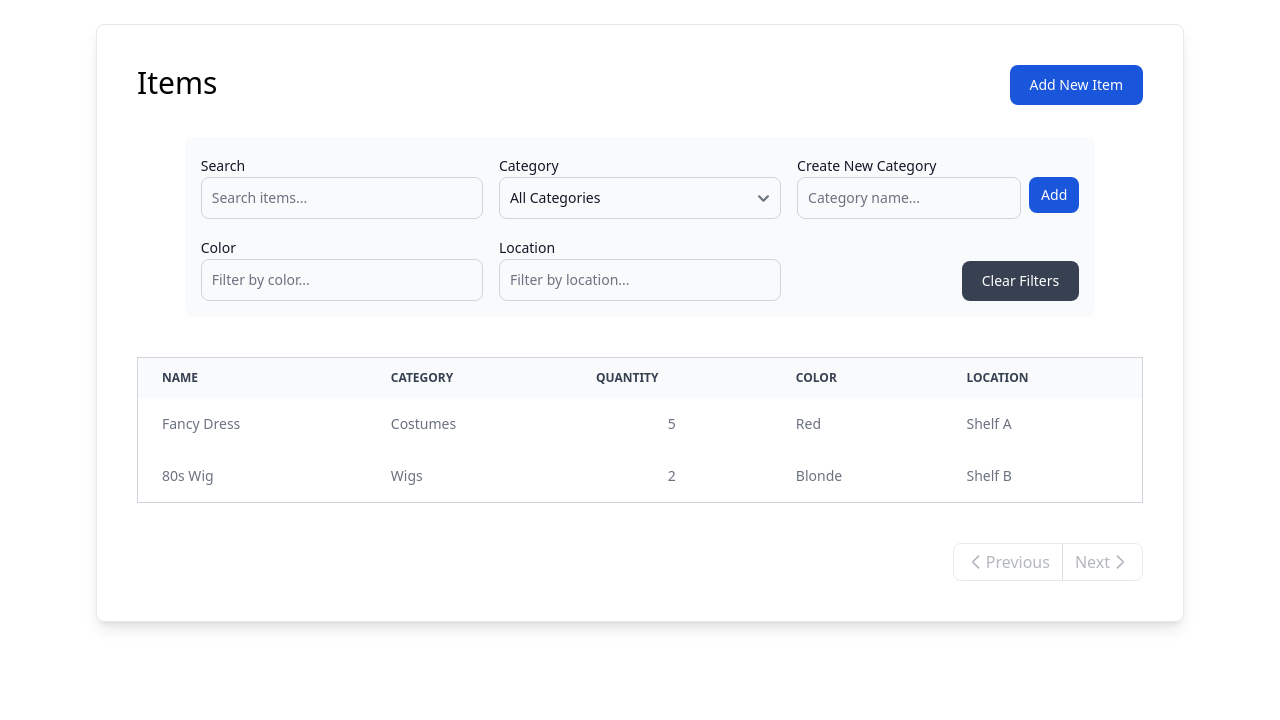
Items Page › displays error message when category creation fails with backend validation error
Expected: the text "Fancy Dress" is shown, [138,398,367,450]
Type "Valid Name" into the field with placeholder "Category name...". click: (909, 198)
box: [797,177,1021,219]
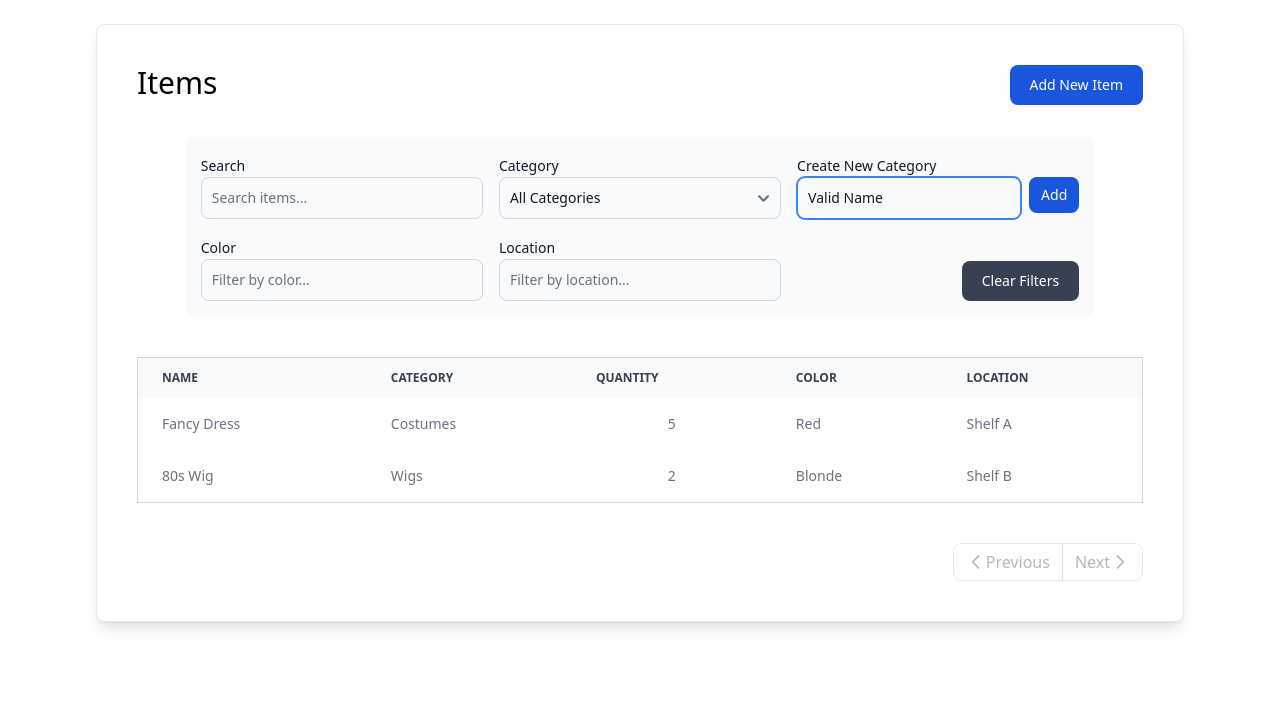
Click the button "Add". click: click(1054, 195)
box: [1029,177,1079,213]
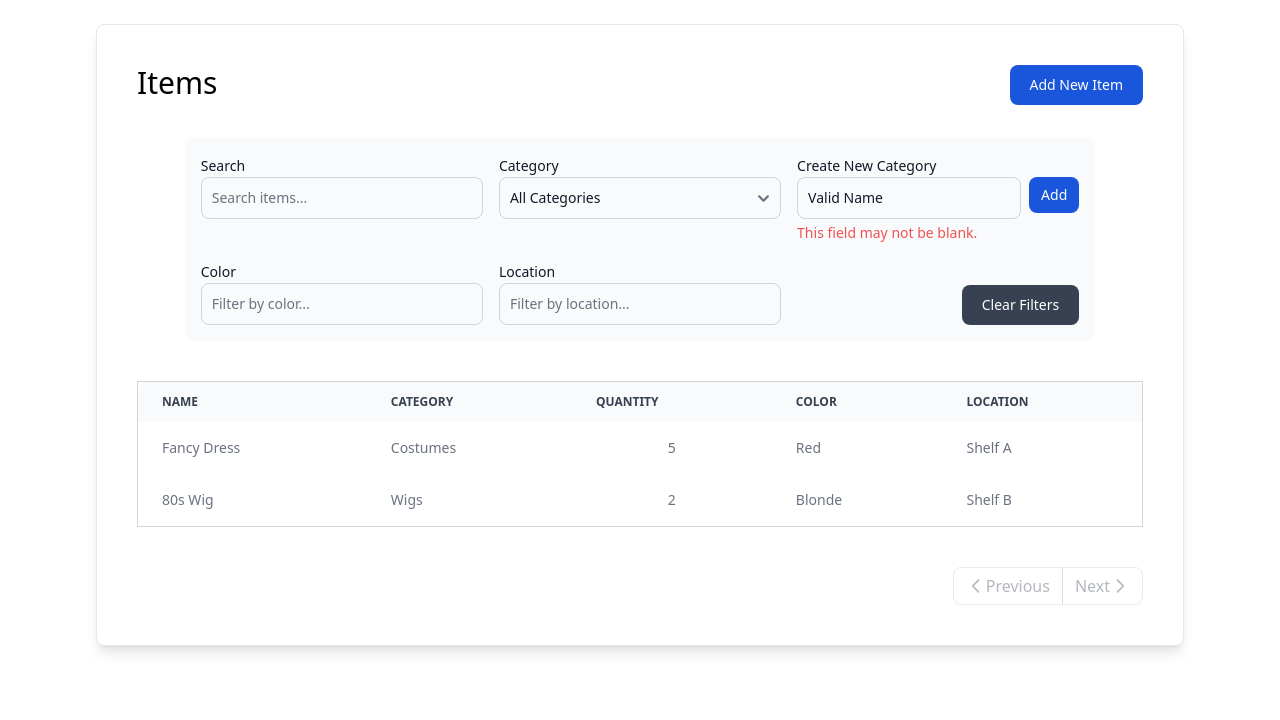
Expected: the text "This field may not be blank." is shown, [797,223,977,242]
